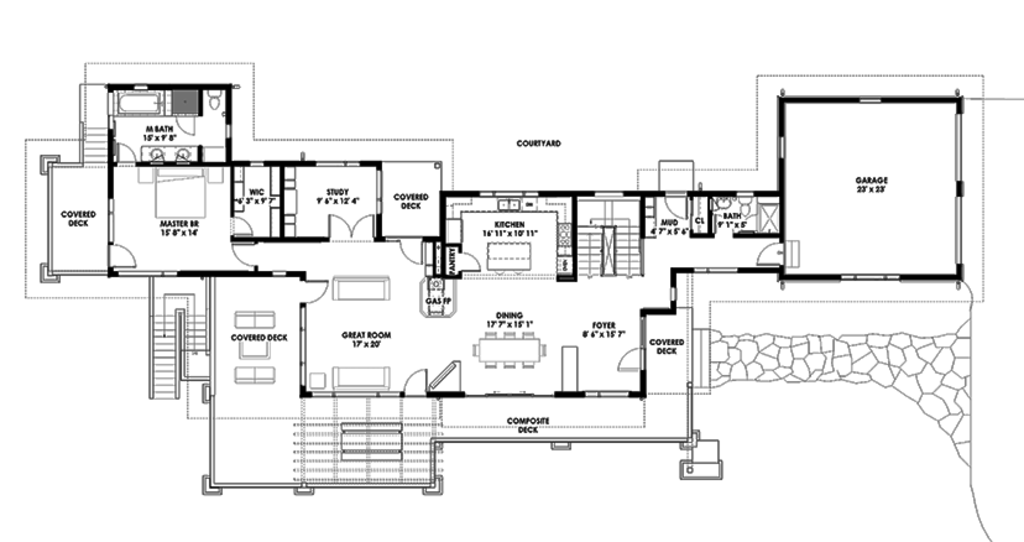bed: (151, 165, 211, 218)
dining_table: (470, 331, 552, 376)
door: (318, 212, 375, 246), (231, 240, 265, 273), (295, 277, 328, 308), (103, 240, 136, 270), (398, 233, 428, 265), (400, 368, 433, 396), (757, 242, 792, 268), (658, 192, 688, 222), (618, 341, 645, 373), (457, 247, 481, 277)
large_sink: (200, 90, 227, 115)
large_sofa: (328, 269, 394, 304), (331, 362, 392, 391), (228, 305, 279, 333), (231, 363, 277, 389)
stairs: (141, 271, 215, 403), (573, 189, 649, 285), (80, 80, 109, 173)
tub: (110, 85, 168, 118)
window: (950, 111, 966, 268), (464, 387, 555, 400), (834, 271, 901, 285), (856, 88, 887, 114), (312, 159, 363, 173), (773, 123, 789, 165)
